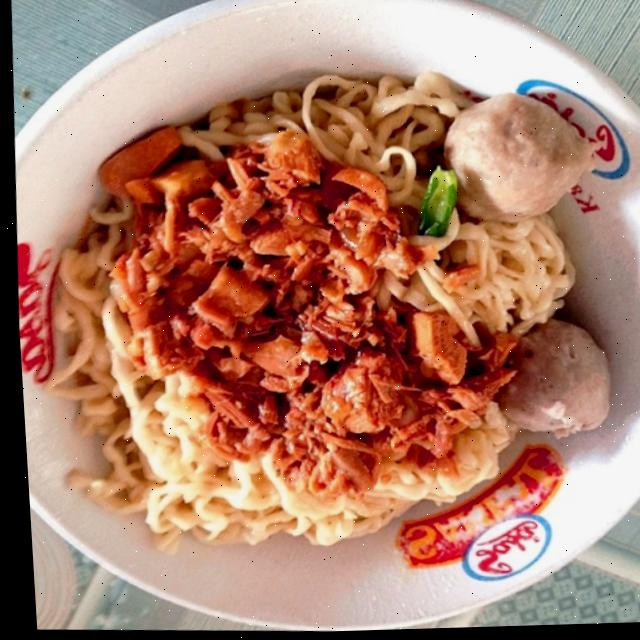面条主食: (14, 2, 640, 621)
